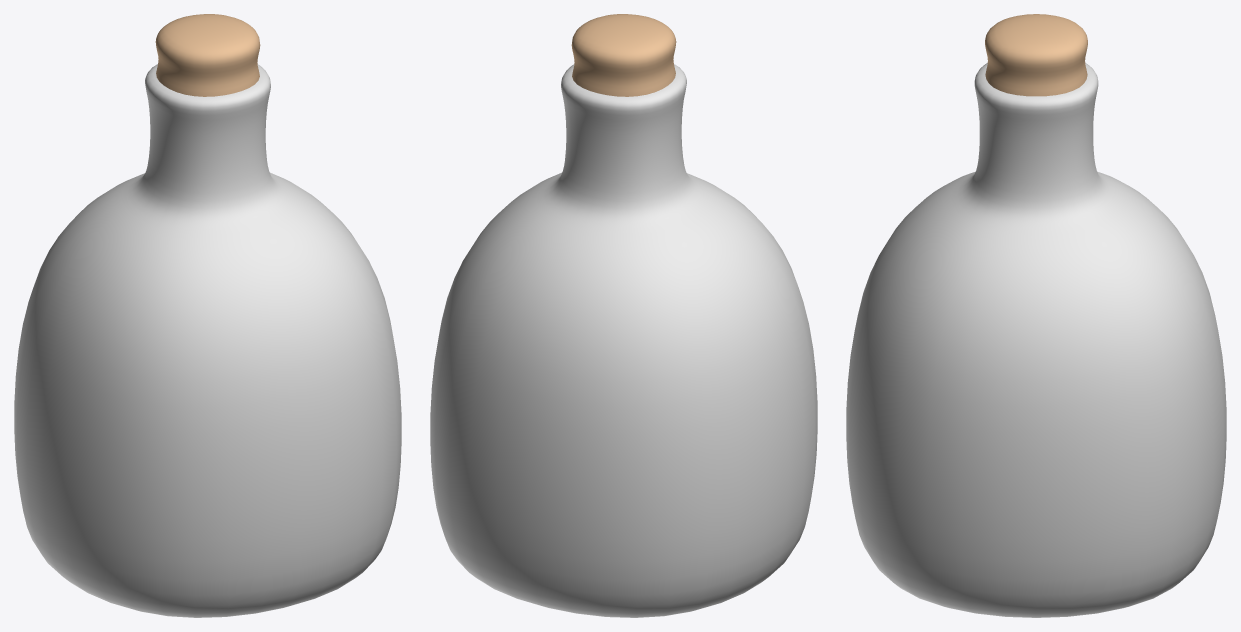
The model's file is Potion.fbx.
3 renders of one model, left to right at view 1: azimuth 30°, elevation 25°; view 2: azimuth 150°, elevation 25°; view 3: azimuth 270°, elevation 25°, orthographic.
Visible parts, largest first — view 1: Cube; view 2: Cube; view 3: Cube.
Boxes of the visible parts, x1,y1,x2,y2 form: Cube: (14,14,401,617); Cube: (430,14,817,617); Cube: (846,14,1226,617).
Bounding box in the file's own units: 102 × 159 × 102.
